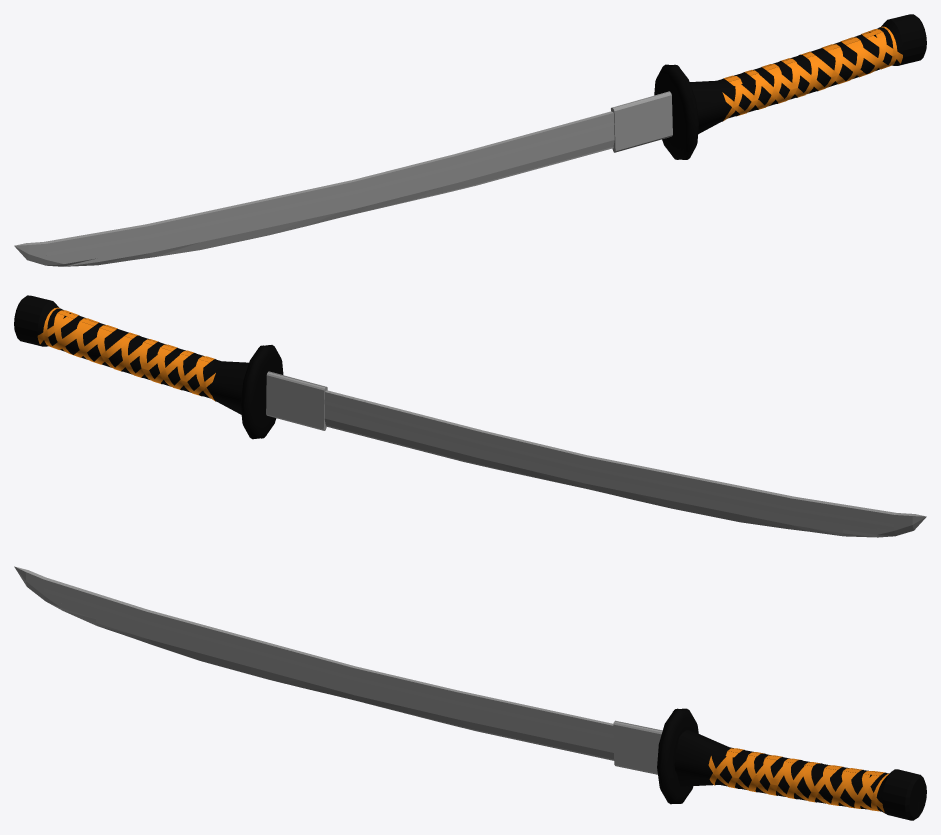
The model's file is katana.fbx.
3 views of the same model, one above another, from view 1: azimuth 30°, elevation 25°; view 2: azimuth 150°, elevation 25°; view 3: azimuth 330°, elevation 25° (orthographic).
Parts seen in each view (by area): view 1: ChamferCyl001, Cylinder001, Object003, Object002; view 2: ChamferCyl001, Cylinder001, Object003, Object002; view 3: ChamferCyl001, Cylinder001, Object003, Object002.
Boxes of the visible parts, box(x1,y1,x2,y2) form: ChamferCyl001: box(14, 91, 672, 266); Cylinder001: box(689, 26, 902, 133); Object003: box(654, 64, 698, 159); Object002: box(881, 14, 926, 65); ChamferCyl001: box(266, 371, 926, 537); Cylinder001: box(37, 307, 248, 414); Object003: box(240, 345, 283, 439); Object002: box(14, 295, 59, 346); ChamferCyl001: box(14, 566, 662, 774); Cylinder001: box(674, 730, 889, 812); Object003: box(657, 708, 698, 804); Object002: box(877, 769, 926, 820).
Size of the model in its own units: 262 by 26.16 by 18.99.
